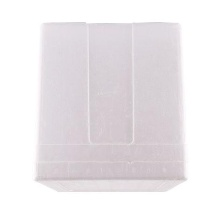foam_box: (30, 17, 194, 199)
